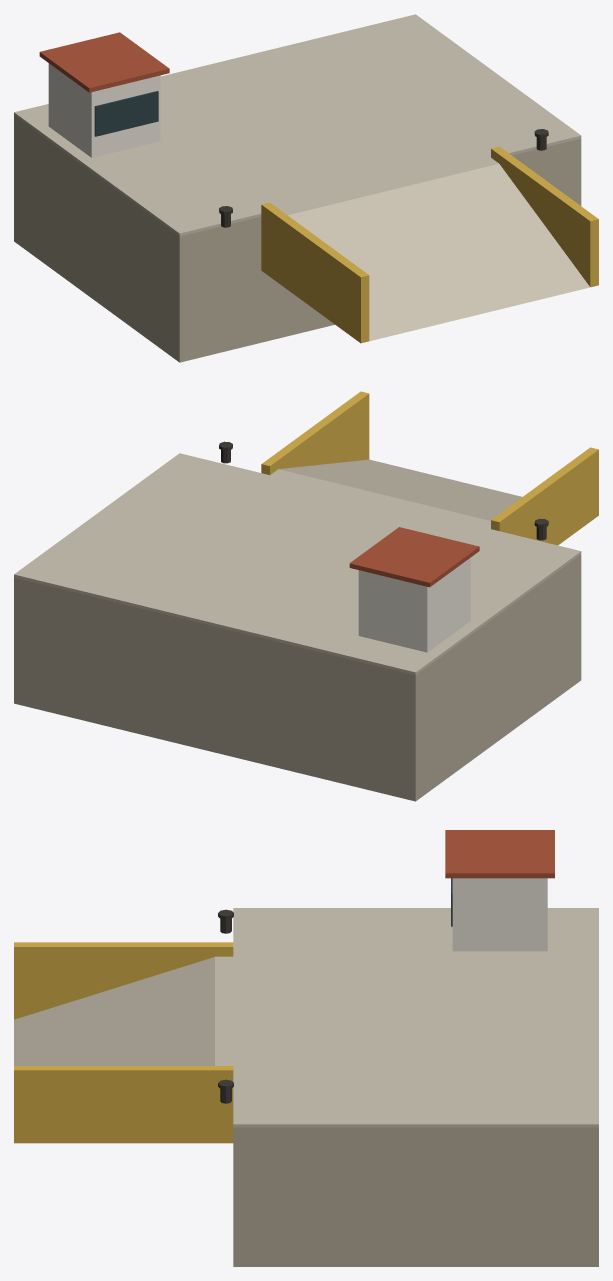
Rendered from feribot-rampasi.glb.
The picture shows the model from 3 angles, top to bottom: view 1: azimuth 30°, elevation 25°; view 2: azimuth 150°, elevation 25°; view 3: azimuth 270°, elevation 25°; orthographic projection. The views are drawn at different scales.
Visible parts, largest first — view 1: beton, beton2, tekne_sari, beyaz, kiremit2, cam, demir; view 2: beton2, beton, tekne_sari, beyaz, kiremit2; view 3: beton, beton2, tekne_sari, beyaz, kiremit2, demir.
Boxes of the visible parts, box(x1,y1,x2,y2) form: beton: box(14, 14, 589, 341); beton2: box(14, 115, 581, 362); tekne_sari: box(261, 146, 598, 343); beyaz: box(48, 63, 160, 157); kiremit2: box(39, 32, 169, 92); cam: box(94, 91, 158, 136); demir: box(219, 129, 548, 227); beton2: box(14, 554, 581, 801); beton: box(14, 453, 581, 675); tekne_sari: box(261, 391, 598, 545); beyaz: box(358, 558, 470, 652); kiremit2: box(349, 527, 479, 587); beton: box(14, 908, 598, 1127); beton2: box(233, 1127, 598, 1266); tekne_sari: box(14, 942, 233, 1143); beyaz: box(452, 878, 547, 951); kiremit2: box(445, 830, 554, 878); demir: box(218, 909, 233, 1103).
Bounding box in the file's own units: 14 × 6.75 × 16.
